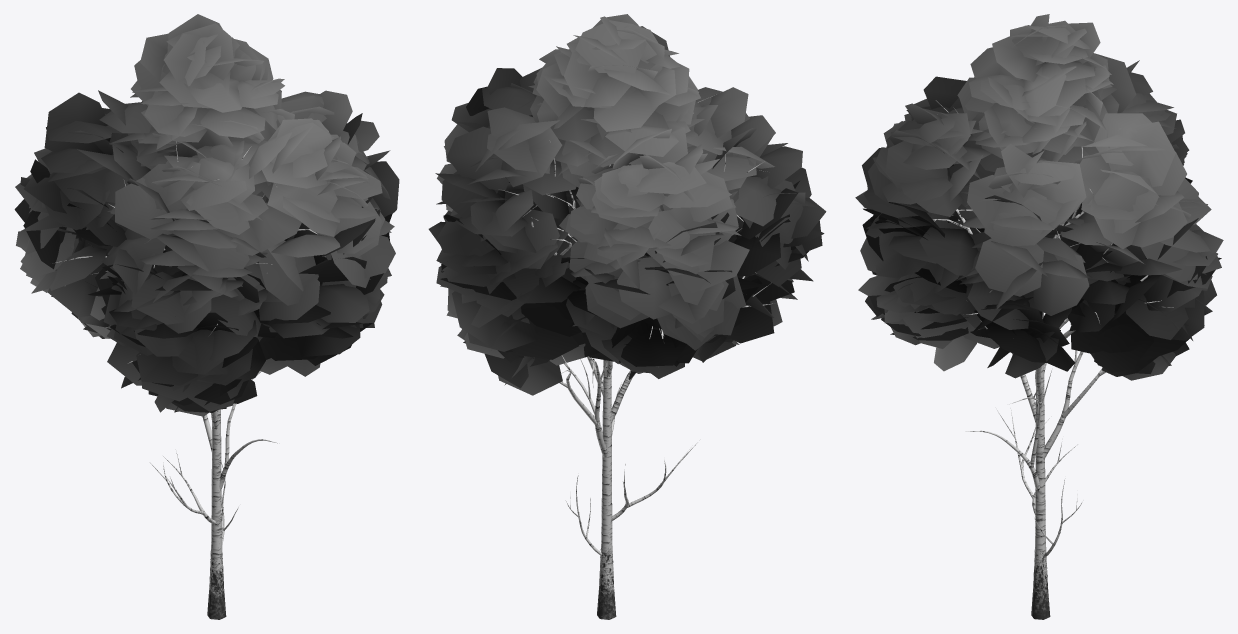
File: Tree_01_LODs.fbx
3 views of the same model, side by side, from view 1: azimuth 30°, elevation 25°; view 2: azimuth 150°, elevation 25°; view 3: azimuth 270°, elevation 25° (orthographic).
Parts seen in each view (by area): view 1: Tree_01_LOD0; view 2: Tree_01_LOD0; view 3: Tree_01_LOD0.
Part boxes in pixels (left/top/right/bottom): Tree_01_LOD0: left=14, top=14, right=399, bottom=619; Tree_01_LOD0: left=428, top=14, right=826, bottom=619; Tree_01_LOD0: left=855, top=14, right=1223, bottom=619.
Size of what is drawn, in the model's own units: 945 by 1602 by 905.
